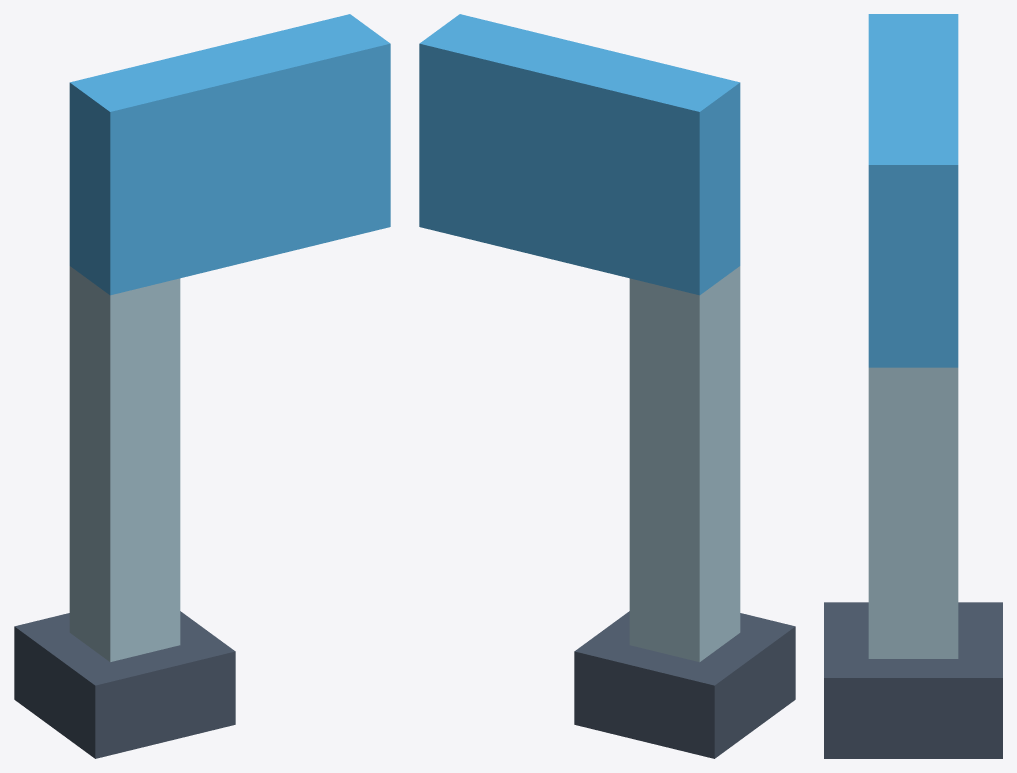
The model's file is blue_flag.gltf.
3 views of the same model, side by side, from view 1: azimuth 30°, elevation 25°; view 2: azimuth 150°, elevation 25°; view 3: azimuth 270°, elevation 25° (orthographic). The views are drawn at different scales.
Parts seen in each view (by area): view 1: cube (×3); view 2: cube (×3); view 3: cube (×3).
Part boxes in pixels (x1,y1,x2,y2): cube (×3): (14, 14, 390, 758); cube (×3): (419, 14, 795, 758); cube (×3): (824, 14, 1002, 758).
Size of the model in its own units: 0.5625 by 1.06 by 0.25.
1 material, 1 textured.
